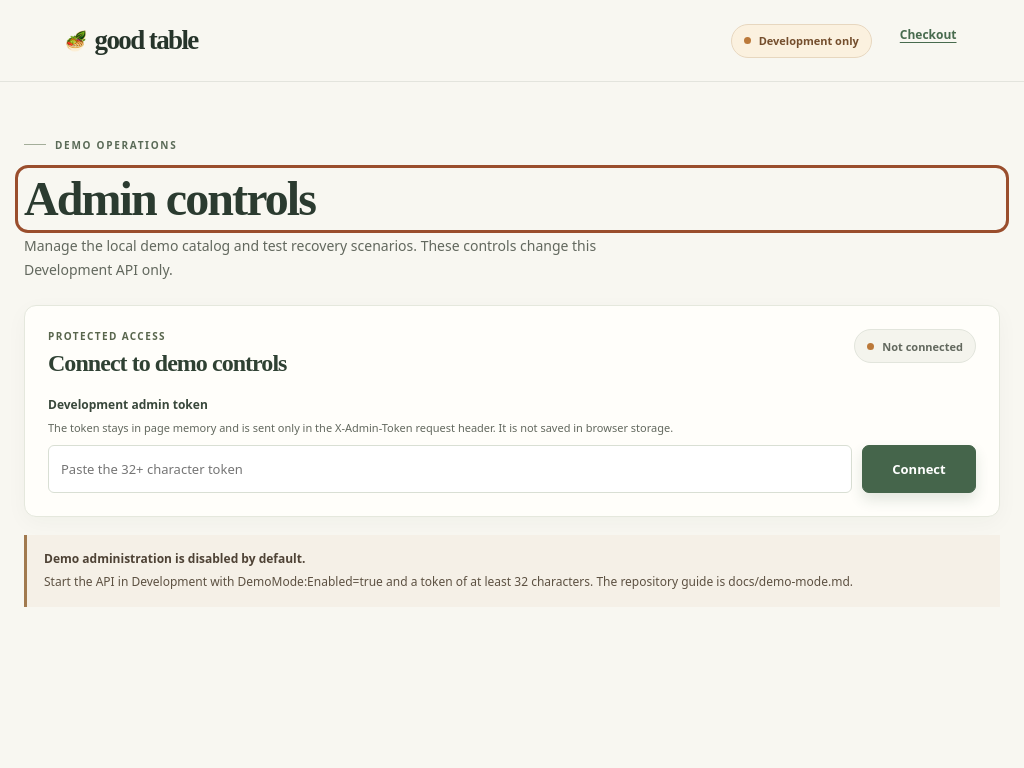
Scenario: Development demo admin › AC-D8 explains when the connected catalog is empty
This screenshot has width=1024, height=768.
Type "local-development-admin-token-with-32-chars" into the password field labelled "Development admin token". click: point(450, 469)
box: [48,445,852,493]
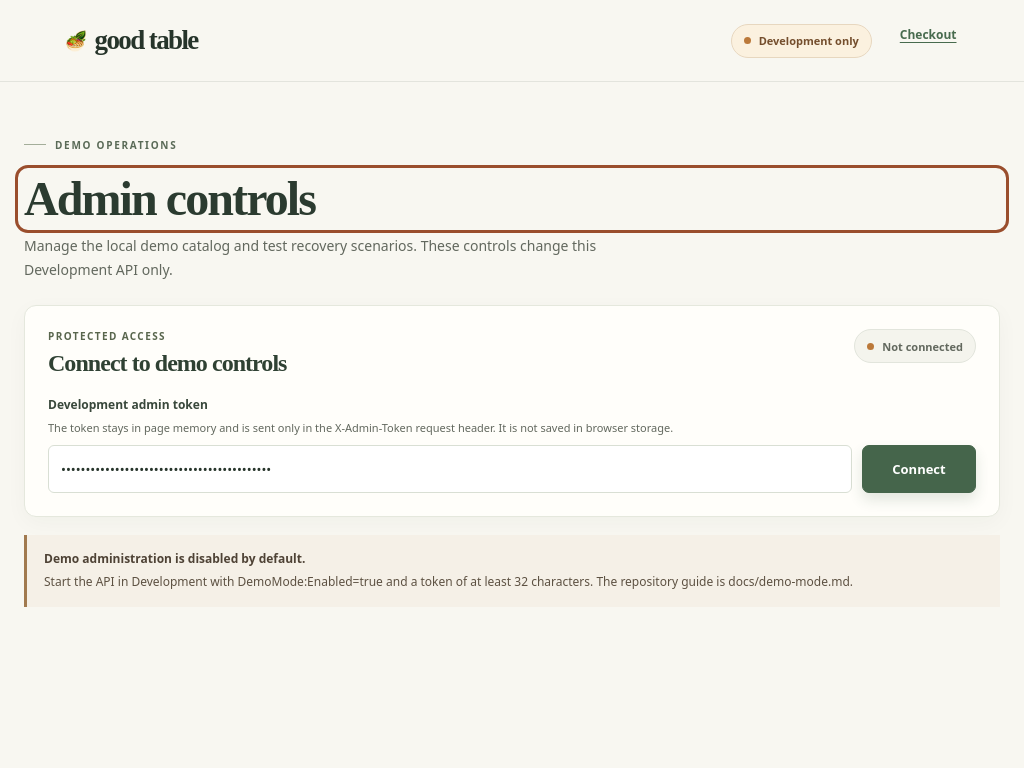
Click the button "Connect". click: point(919, 469)
box: [862,445,976,493]
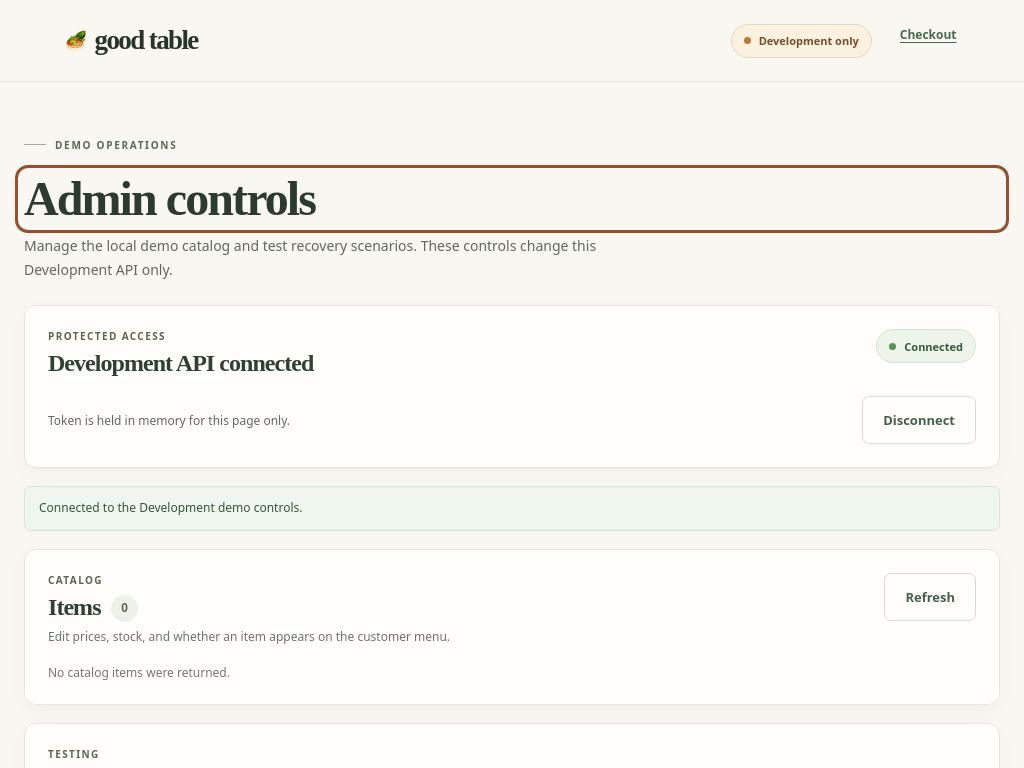
Result: the text "No catalog items were returned." is shown at [48,664,230,681]
Result: the heading "Items 0" is shown at [48,594,138,622]
Result: the button "Refresh" is shown at [884,573,976,621]
